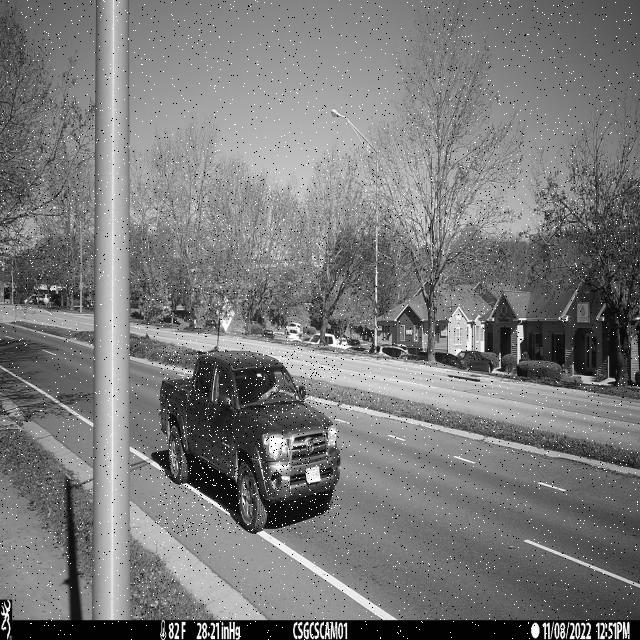Pickup: (159, 351, 340, 534)
